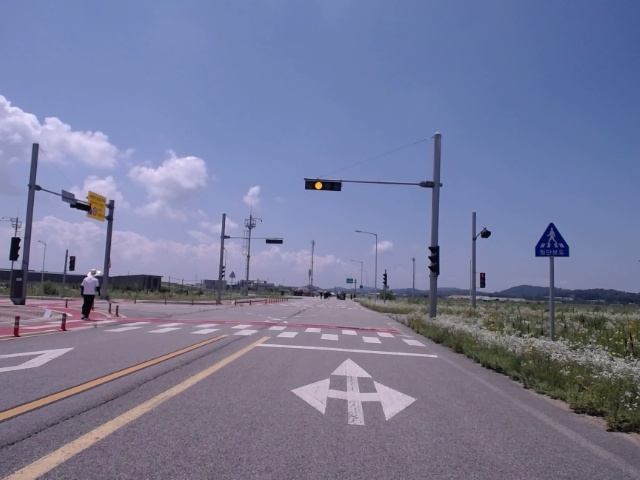orange_4: (302, 178, 341, 190)
